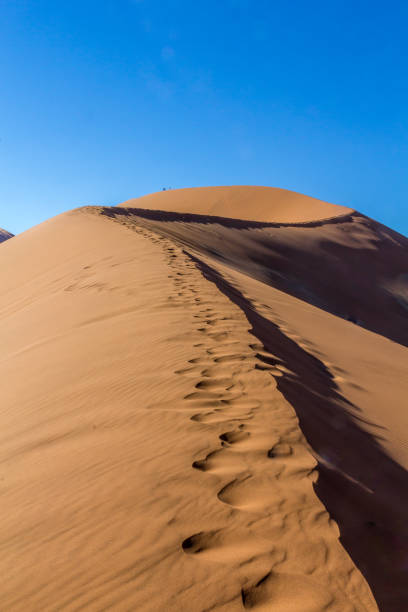human_footprint: (179, 307, 328, 608)
